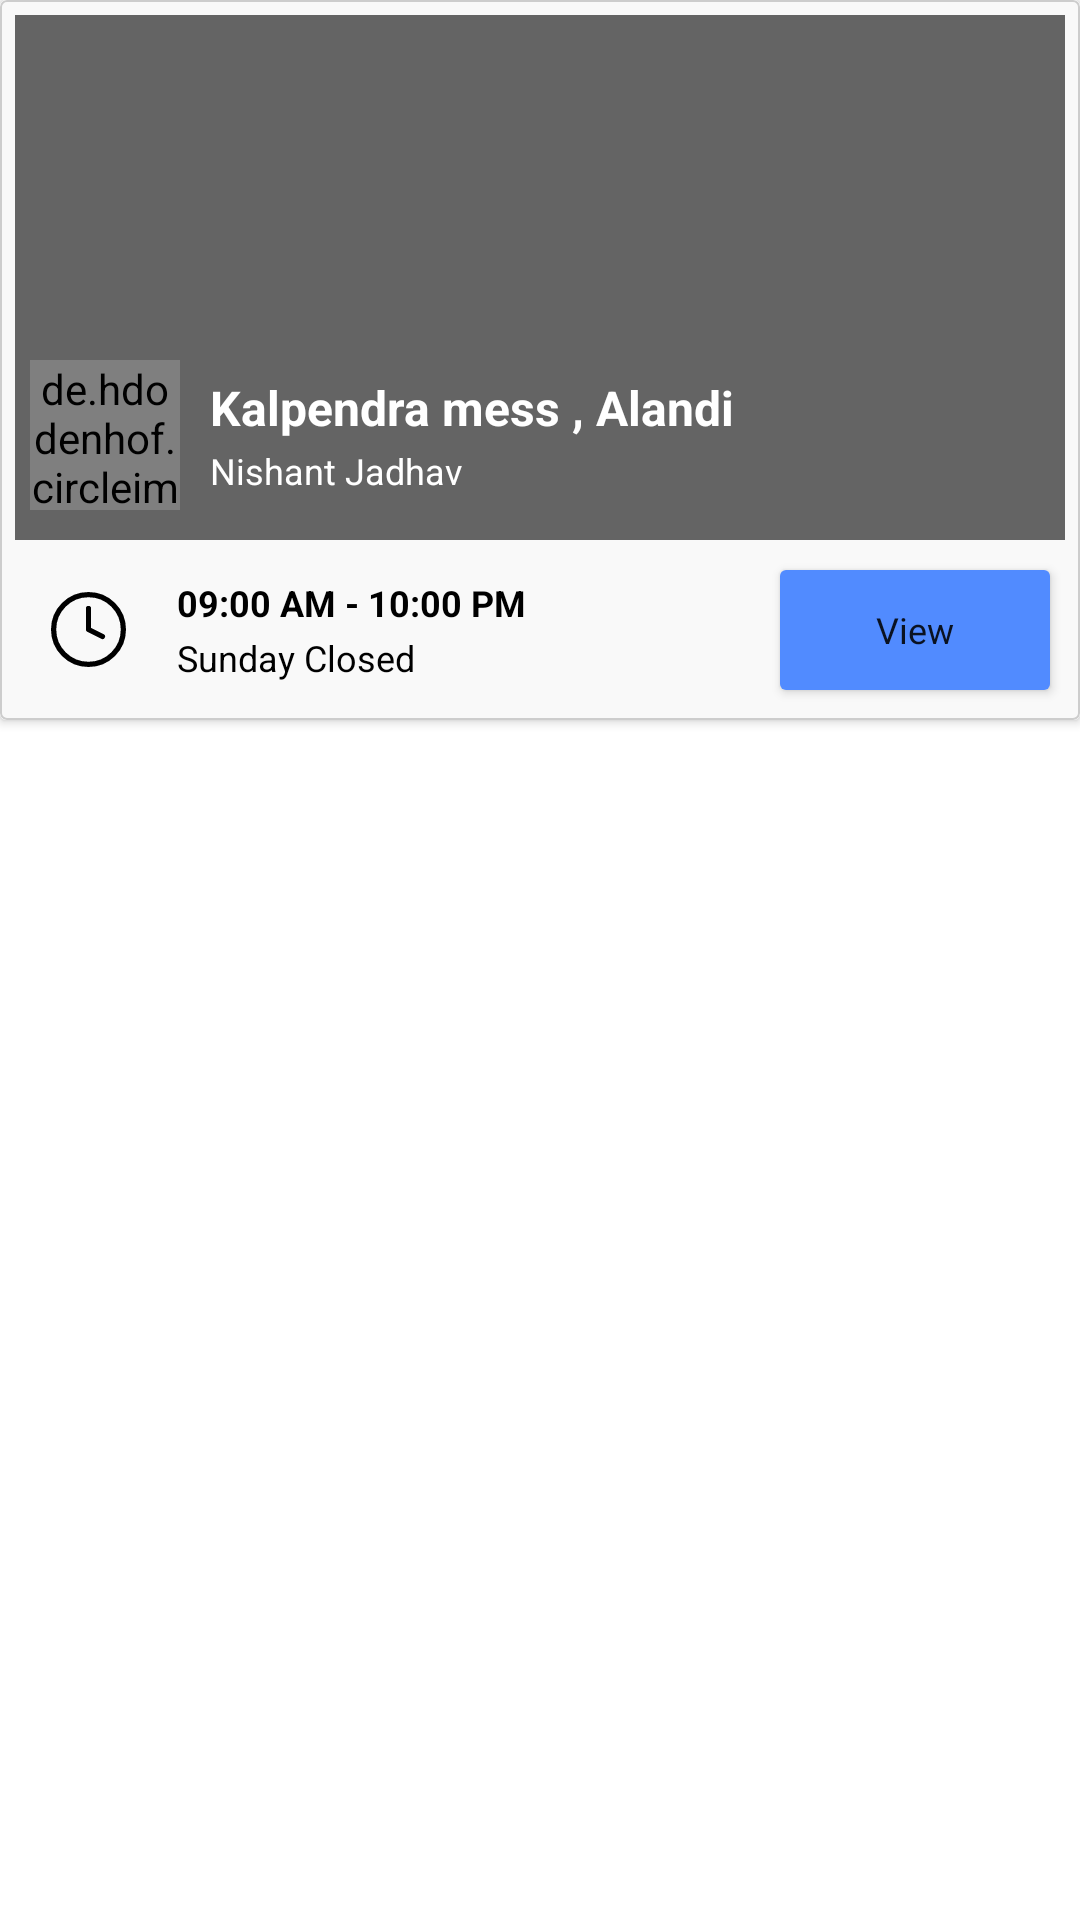

Where icons sit on this 1080px x 1920px app screen, as BBox(x1, y1, x2, y2):
clock: BBox(51, 592, 126, 667)
